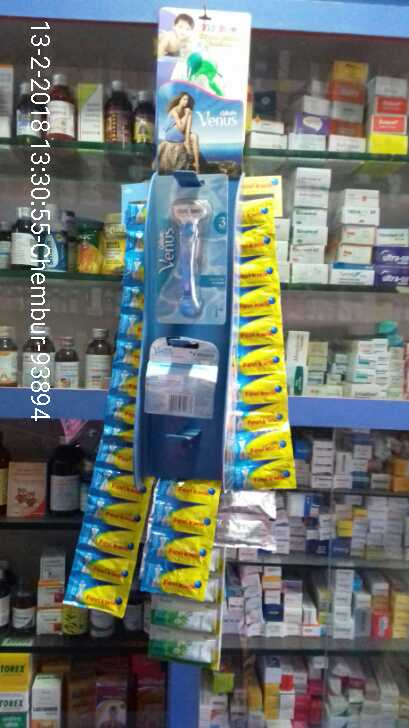venus: (151, 168, 231, 325)
